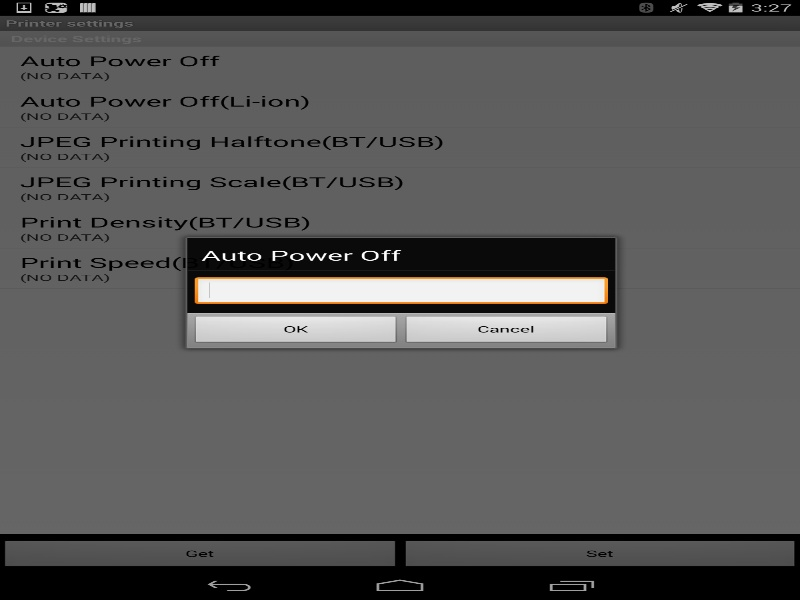Button: (190, 315, 401, 345), (401, 315, 612, 345)
Input: (194, 276, 608, 306)
